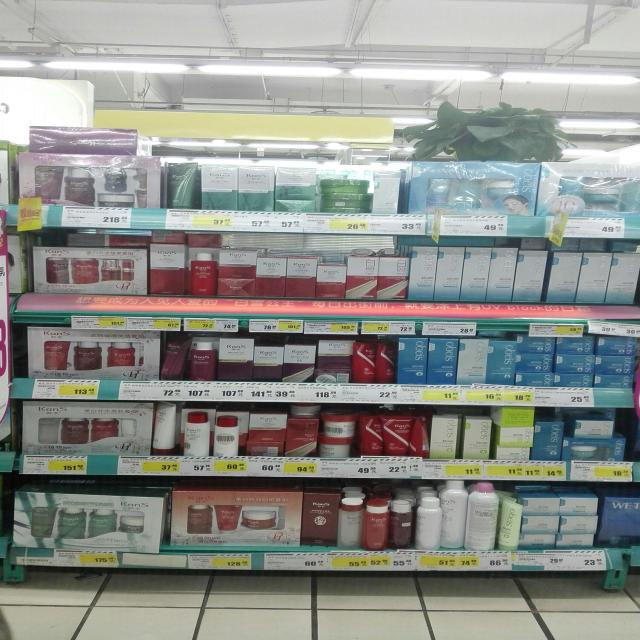unorganised: (494, 403, 537, 461), (353, 338, 397, 387), (439, 478, 466, 551), (319, 411, 356, 456), (166, 159, 199, 209), (497, 495, 524, 550), (160, 334, 189, 383), (154, 401, 178, 455), (570, 413, 616, 440), (357, 409, 382, 456), (407, 413, 429, 457)
